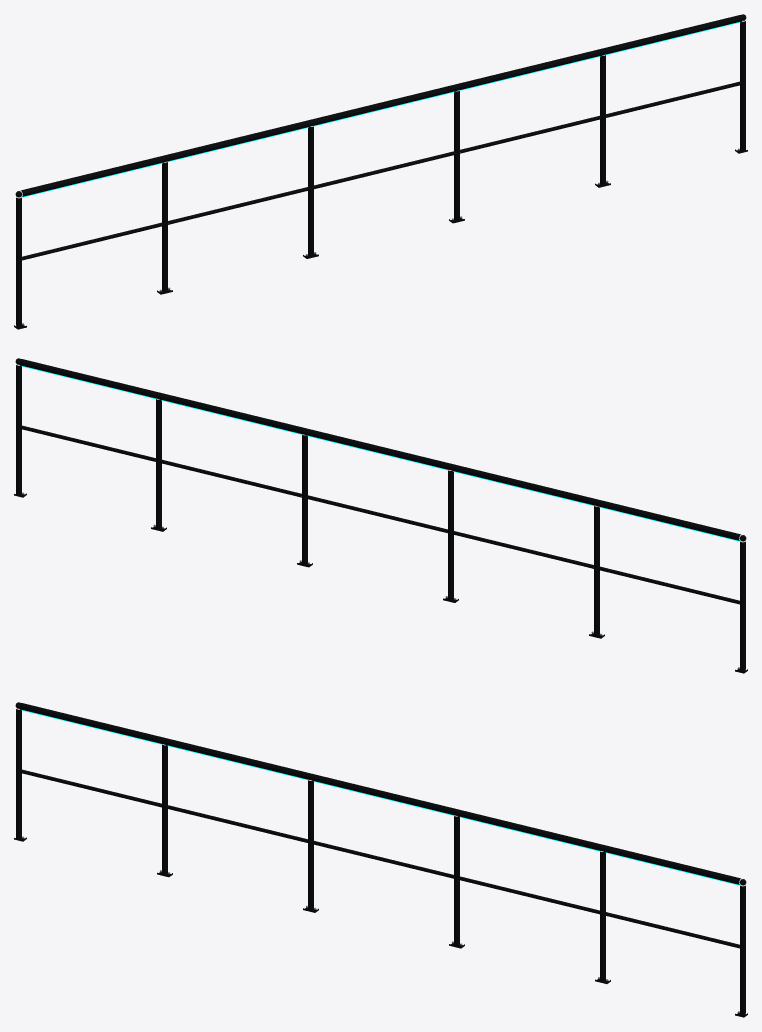
Rendered from tt_cab_view_rail.glb.
3 views of the same model, one above another, from view 1: azimuth 30°, elevation 25°; view 2: azimuth 150°, elevation 25°; view 3: azimuth 330°, elevation 25° (orthographic).
Visible parts, largest first — view 1: TopRail, Post, MidRail, RailLED; view 2: TopRail, Post, MidRail, RailLED; view 3: TopRail, Post, MidRail, RailLED.
Part boxes in pixels (x1,y1,x2,y2): TopRail: (21,15,742,196); Post: (16,21,745,327); MidRail: (22,81,741,260); RailLED: (21,22,740,197); TopRail: (19,359,740,540); Post: (16,365,745,671); MidRail: (20,425,739,604); RailLED: (21,366,740,541); TopRail: (19,703,740,884); Post: (16,709,745,1015); MidRail: (20,769,739,948); RailLED: (21,710,740,885).
Size of what is drawn, in the model's own units: 6 by 1.07 by 0.056.
Materials: 3 (2 with a texture image).
